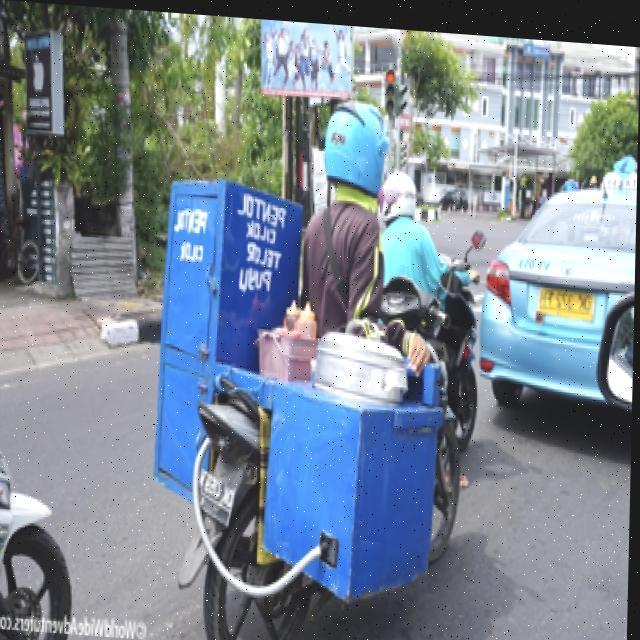Helmet: (316, 88, 398, 203)
